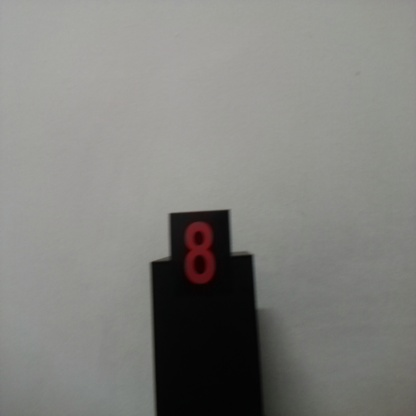id_8: (170, 213, 231, 306)
